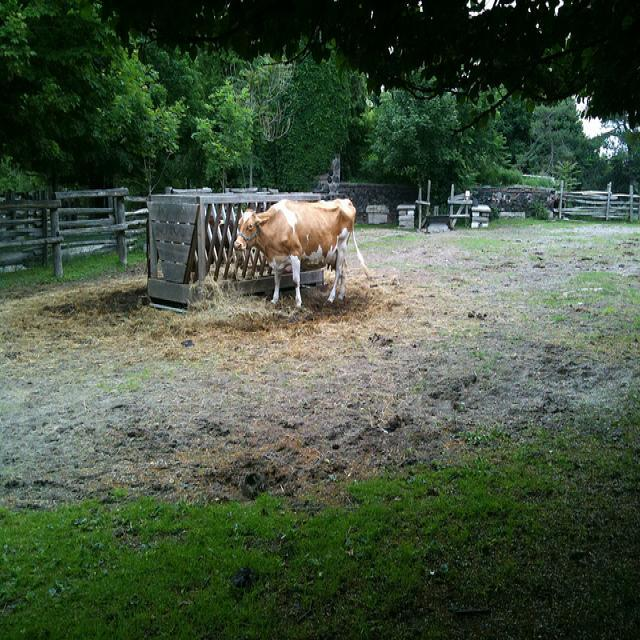cow: (232, 195, 370, 308)
